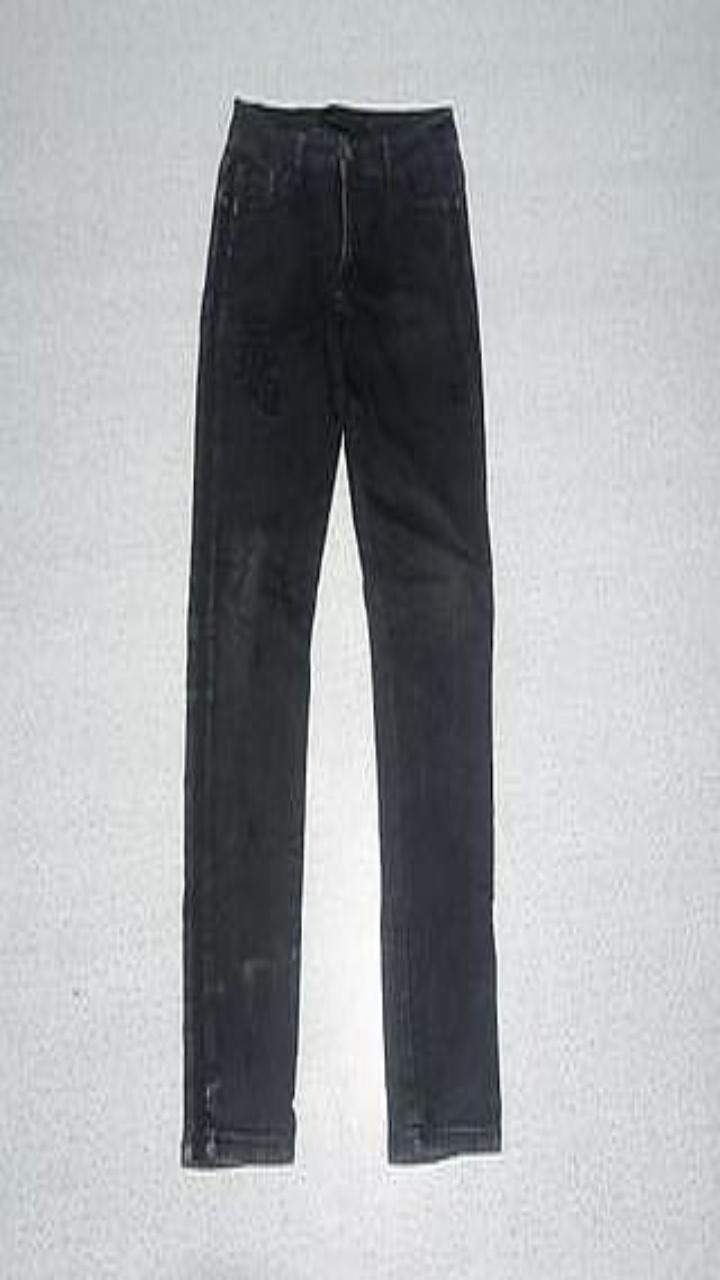Jeans: (181, 98, 500, 1167)
